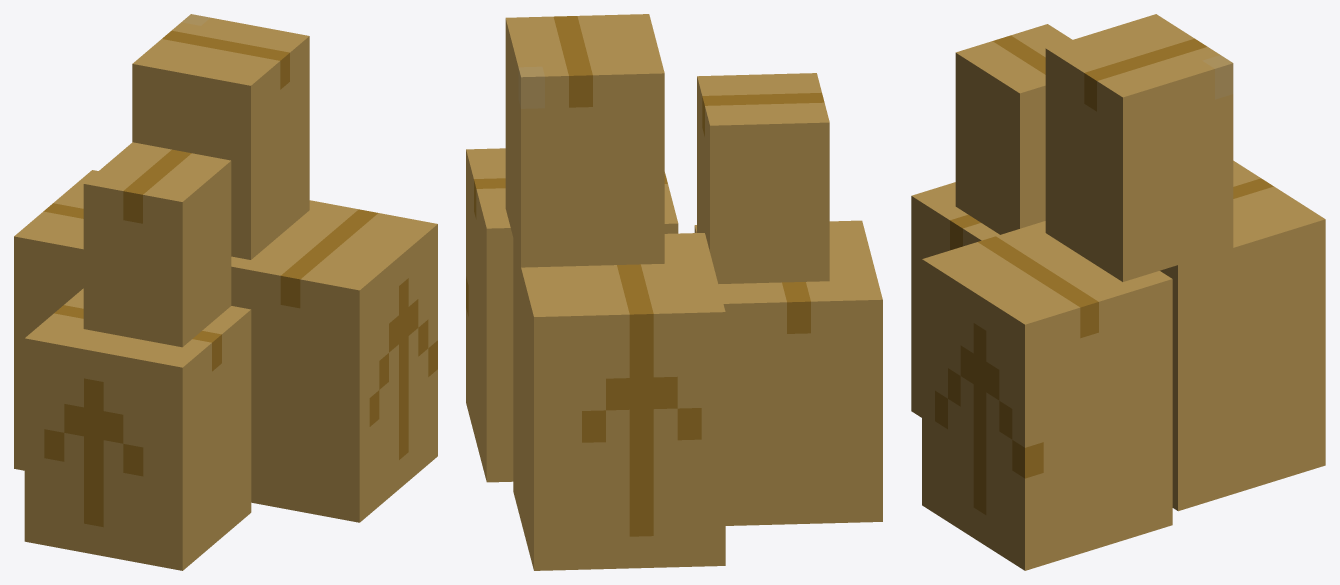
Rendered from boxes_01.fbx.
The picture shows the model from 3 angles, left to right: view 1: azimuth 30°, elevation 25°; view 2: azimuth 150°, elevation 25°; view 3: azimuth 270°, elevation 25°; orthographic projection. The views are drawn at different scales.
Parts seen in each view (by area): view 1: boxes_01; view 2: boxes_01; view 3: boxes_01.
Boxes of the visible parts, x1=… form: boxes_01: x1=14, y1=14, x2=437, y2=570; boxes_01: x1=466, y1=14, x2=882, y2=570; boxes_01: x1=911, y1=14, x2=1325, y2=570.
Size of the model in its own units: 180 by 176 by 154.
